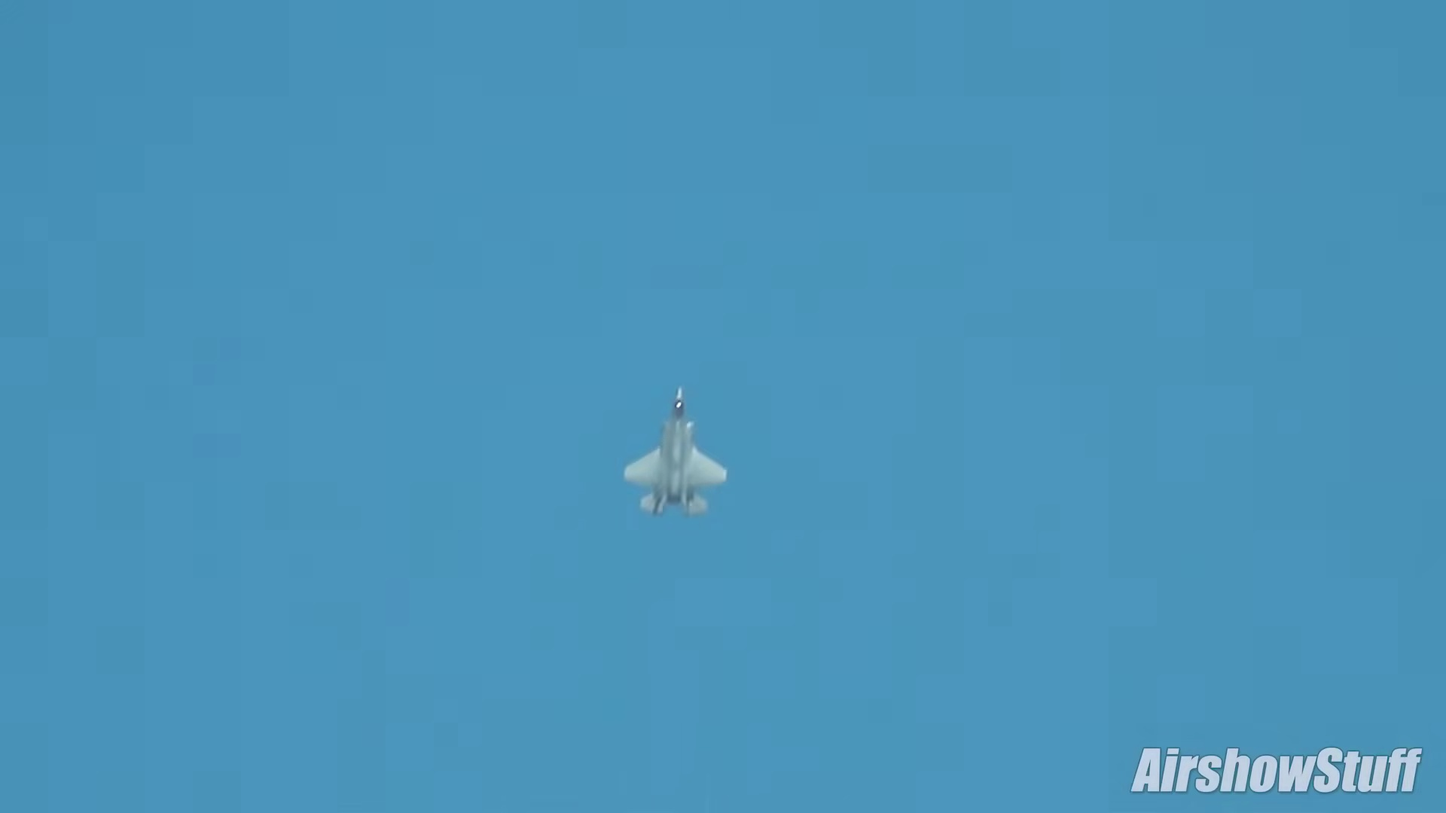F35: (620, 382, 736, 524)
